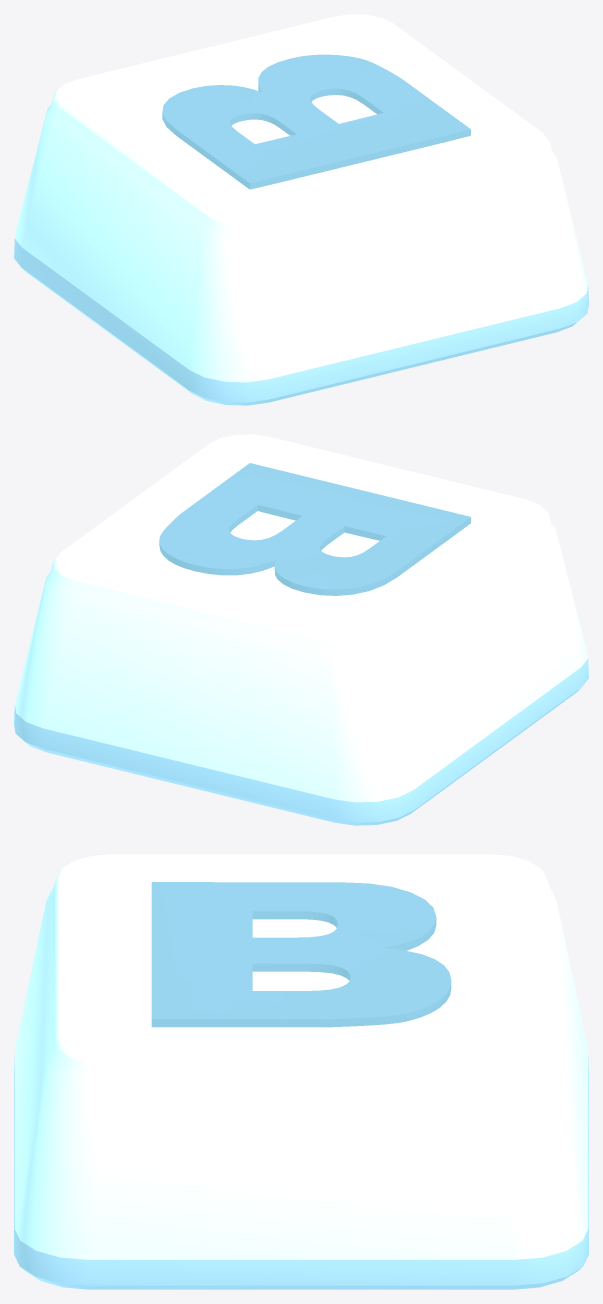
File: props__Key_B.glb
The picture shows the model from 3 angles, top to bottom: view 1: azimuth 30°, elevation 25°; view 2: azimuth 150°, elevation 25°; view 3: azimuth 270°, elevation 25°; orthographic projection. The views are drawn at different scales.
Parts seen in each view (by area): view 1: Key_B; view 2: Key_B; view 3: Key_B.
Boxes of the visible parts, bbox=[...] form: Key_B: bbox=[14, 14, 588, 405]; Key_B: bbox=[14, 434, 588, 825]; Key_B: bbox=[14, 854, 588, 1289].
Size of the model in its own units: 3.9 by 1.65 by 3.9.
